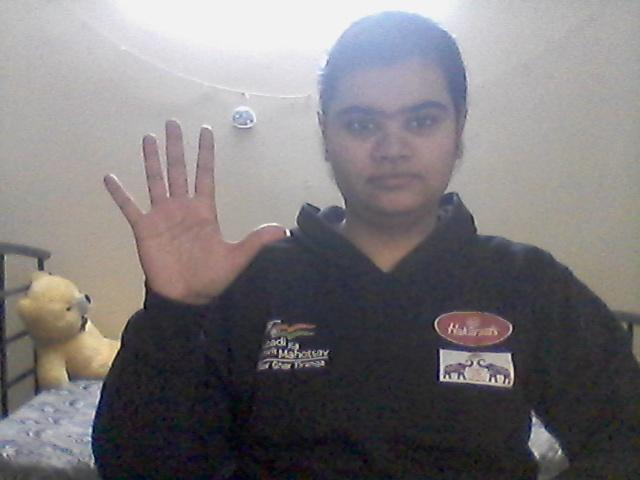hello: (88, 114, 299, 310)
